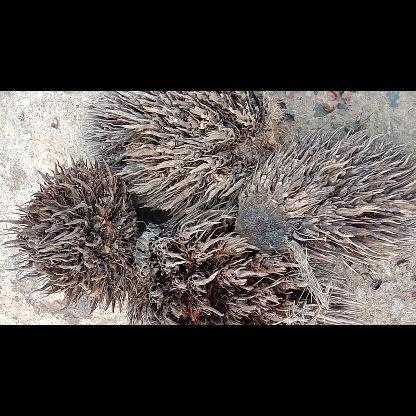Janjang kosong: (235, 127, 414, 273), (132, 212, 364, 324), (84, 90, 282, 218), (0, 154, 138, 312)
